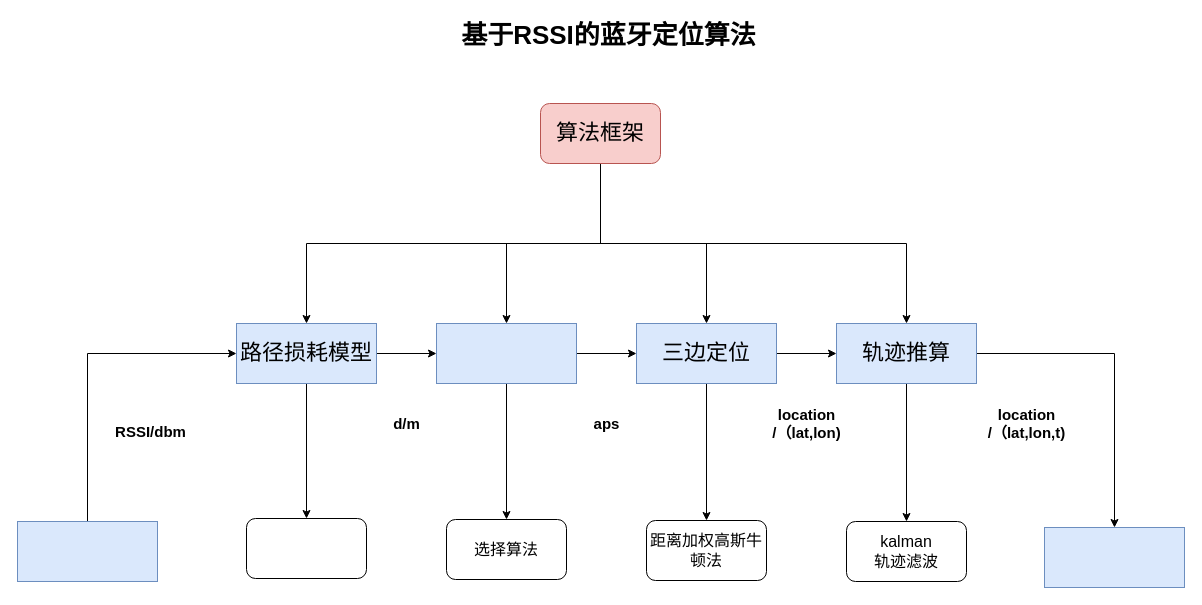
Image size: 1202x605. Some labels were removed from this diagram. Here are the shapes that lost their labels. From the top down, the box of each, then its label:
(436, 322, 576, 384): AP选择器
(16, 520, 158, 582): 蓝牙信标
(246, 518, 366, 578): ap均值+环境因子对数模型
(1044, 526, 1184, 588): 动态轨迹
